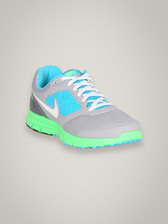shoes: (23, 59, 149, 151)
